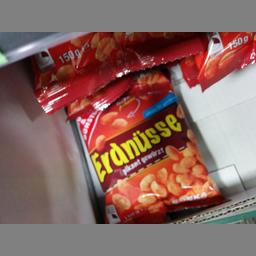nuts: (76, 70, 228, 223)
